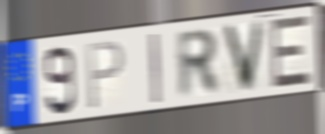9: (43, 45, 77, 116)
E: (269, 12, 313, 92)
I: (148, 31, 162, 106)
P: (85, 38, 126, 113)
R: (174, 27, 223, 102)
V: (220, 18, 267, 96)
